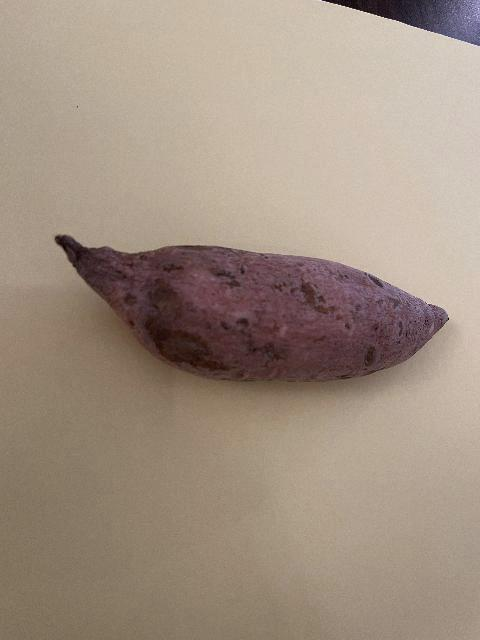sweetpotato: (53, 231, 450, 385)
